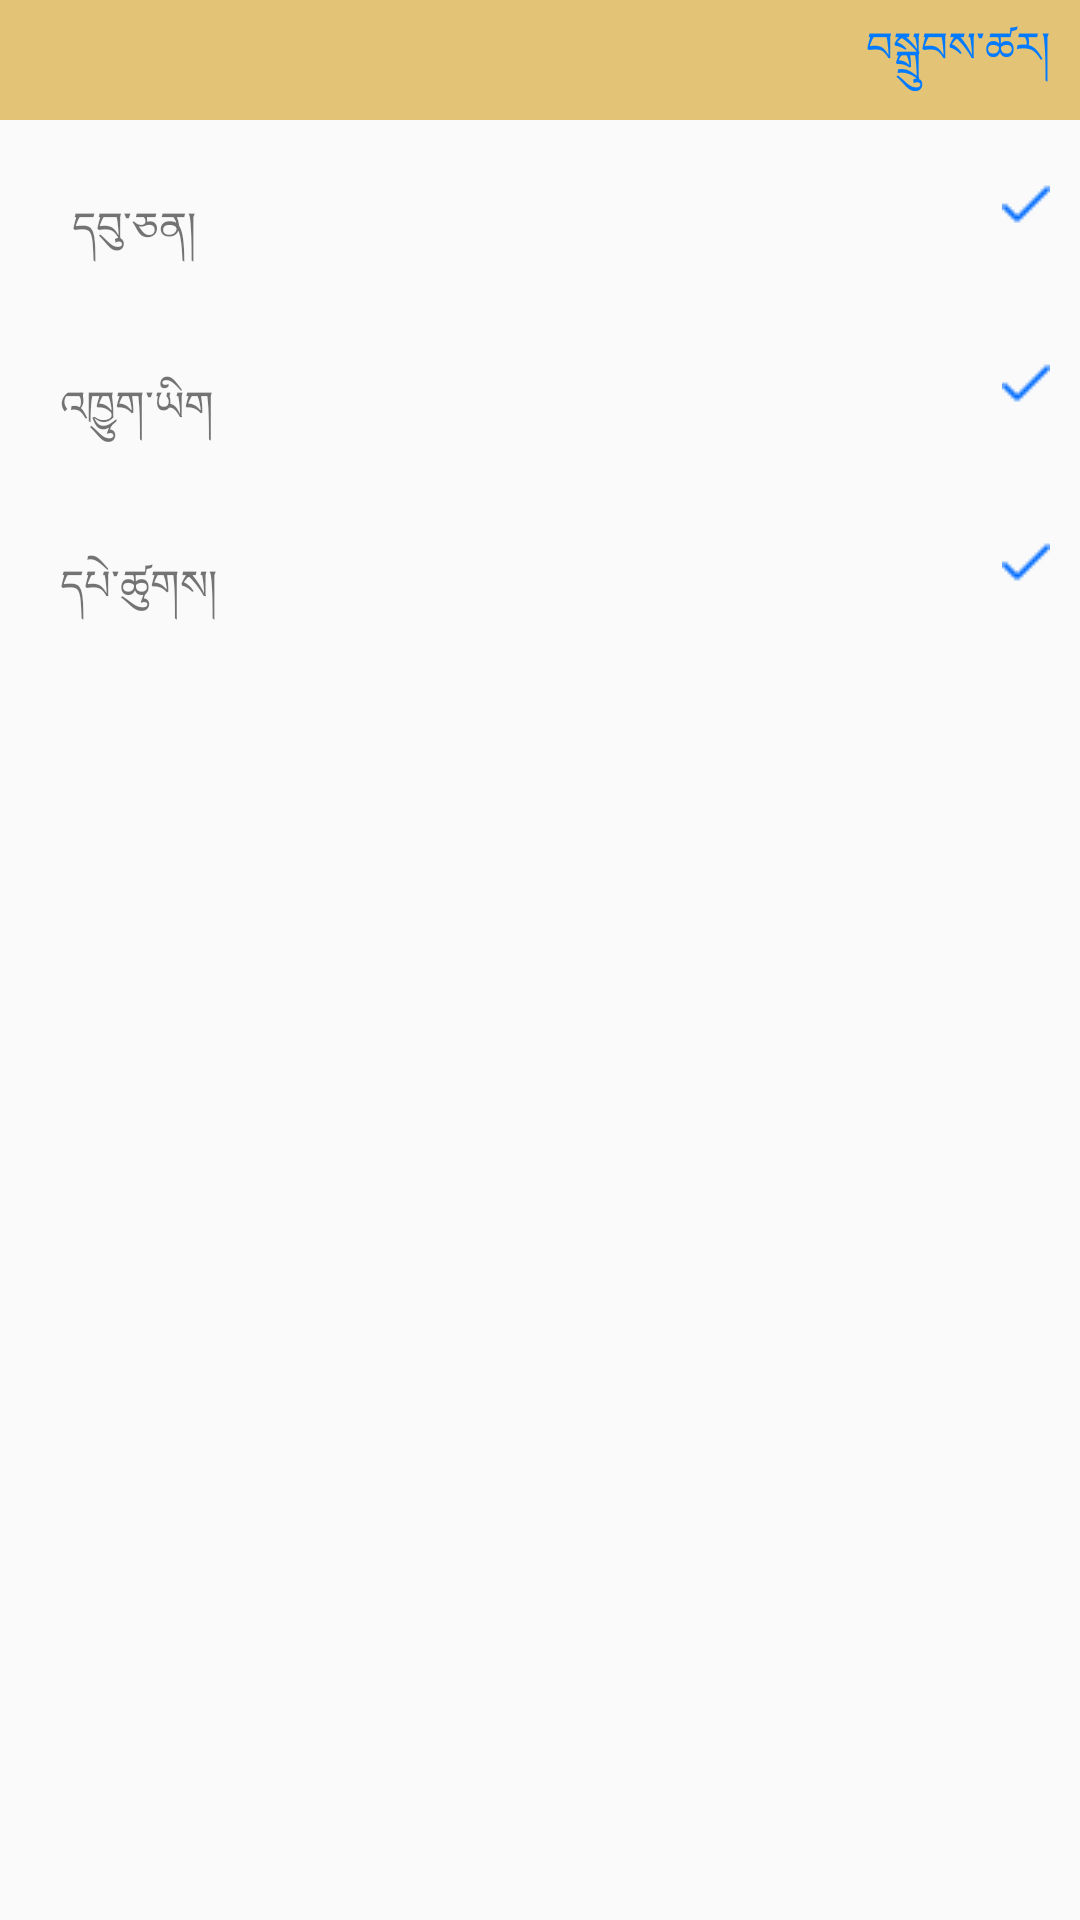

Where icons sit on this 1080px x 1920px app screen, as (x1, y1, x2, y2):
checker: (1002, 185, 1050, 223), (1002, 364, 1050, 402), (1002, 543, 1050, 581)
